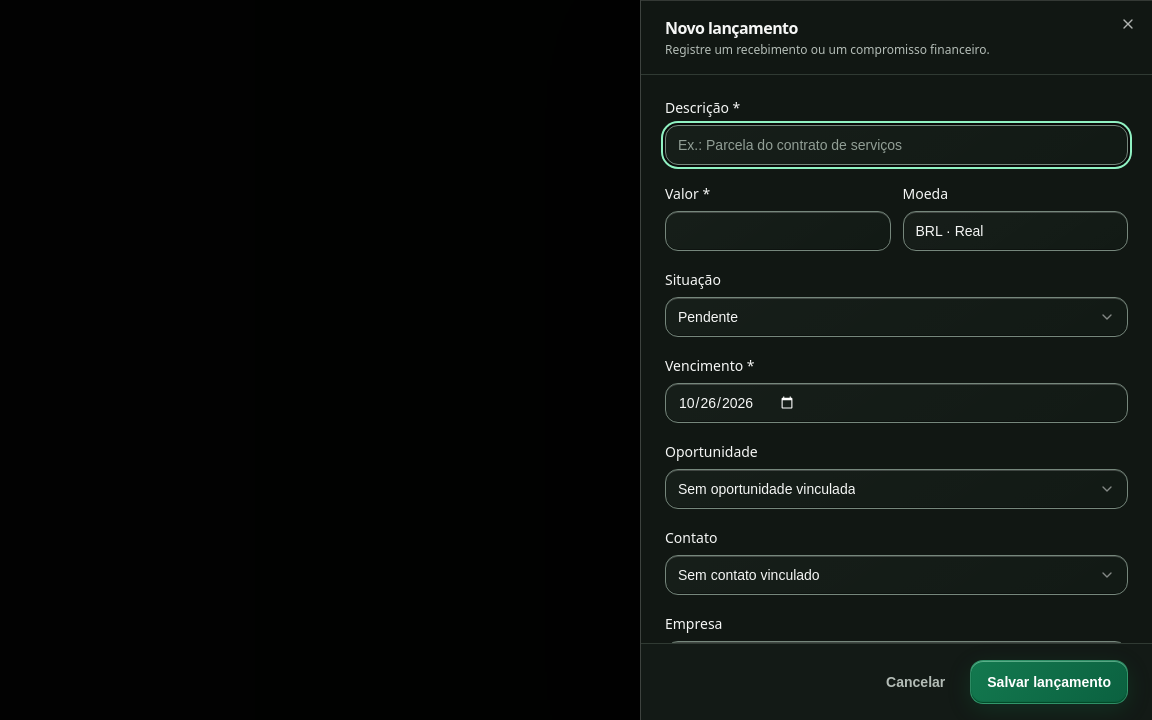
recuperação de falha nos formulários de operação › mantém descrição/valor de pagamento e não fecha quando o servidor falha
Type "Parcela inicial" into the field labelled "Descrição *" at (896, 145), box [665,125,1128,165]
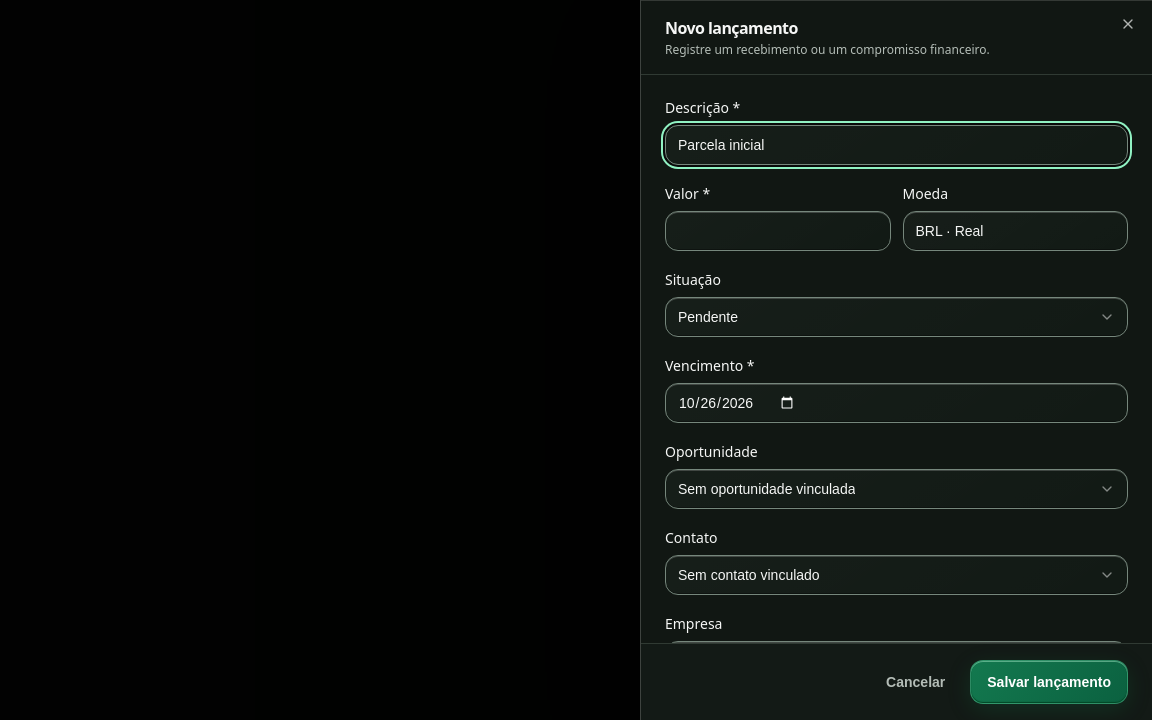
Type "1200,50" into the field labelled "Valor *" at (778, 231), box [665,211,890,251]
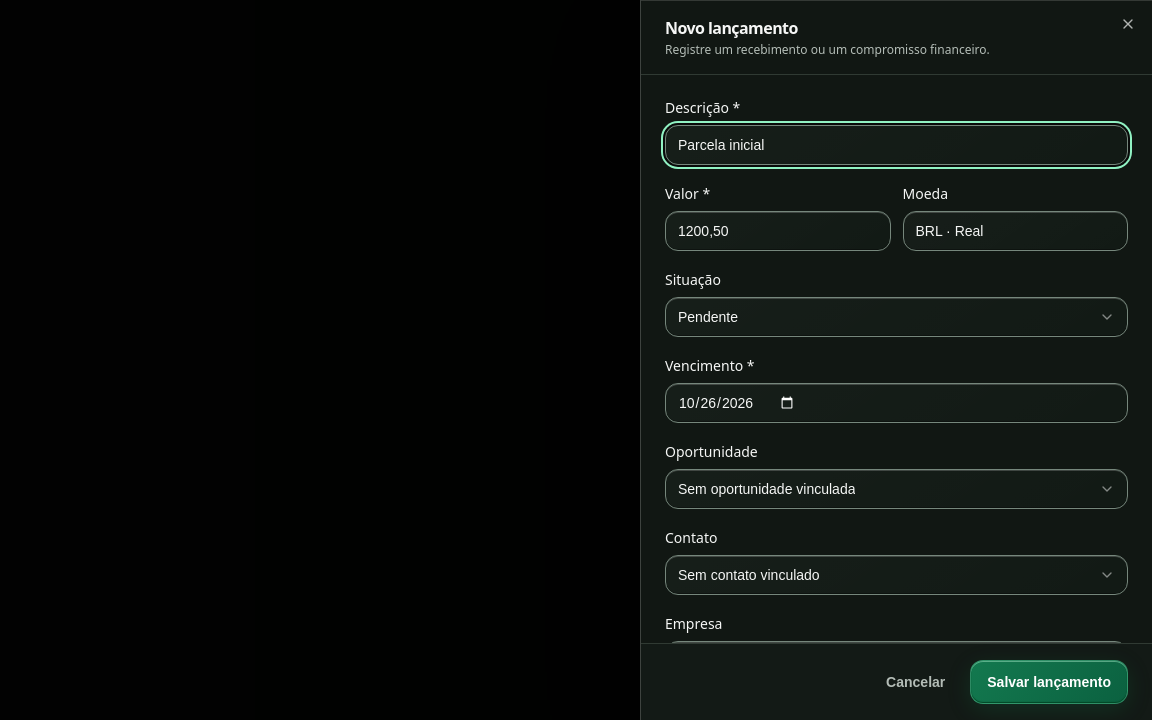
Click the button "Salvar lançamento" at (1049, 682), box [970,660,1128,704]
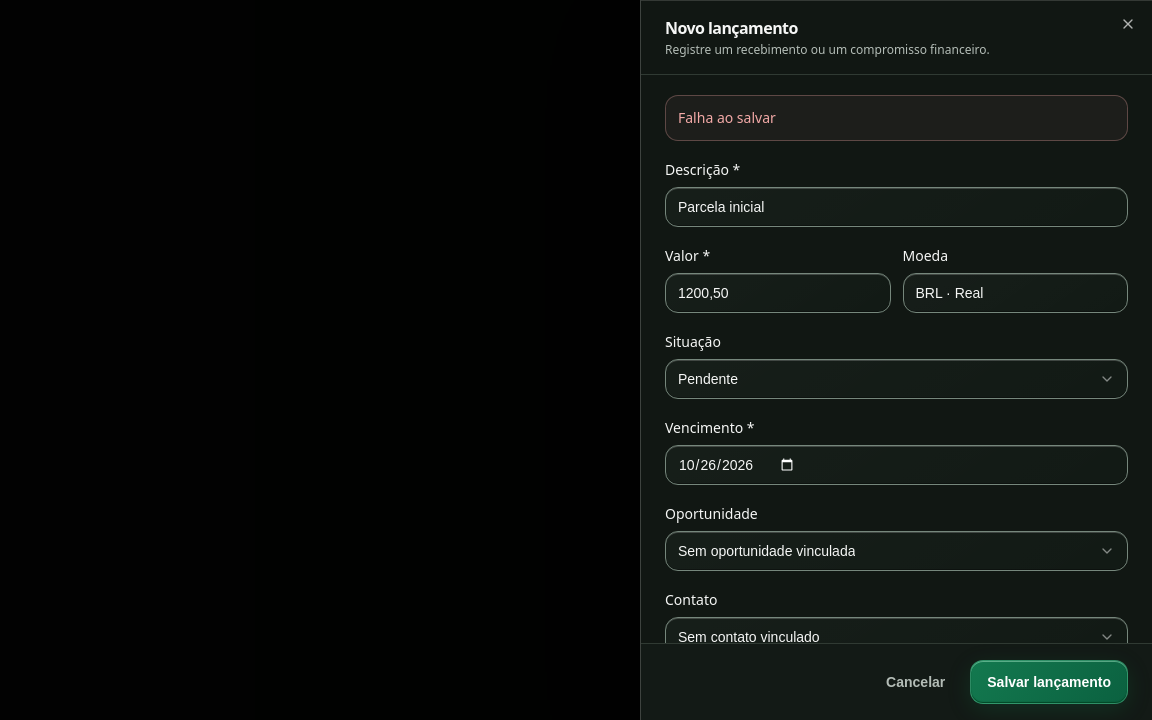
Now the text "Falha ao salvar" is shown, box [665,95,1128,141]
